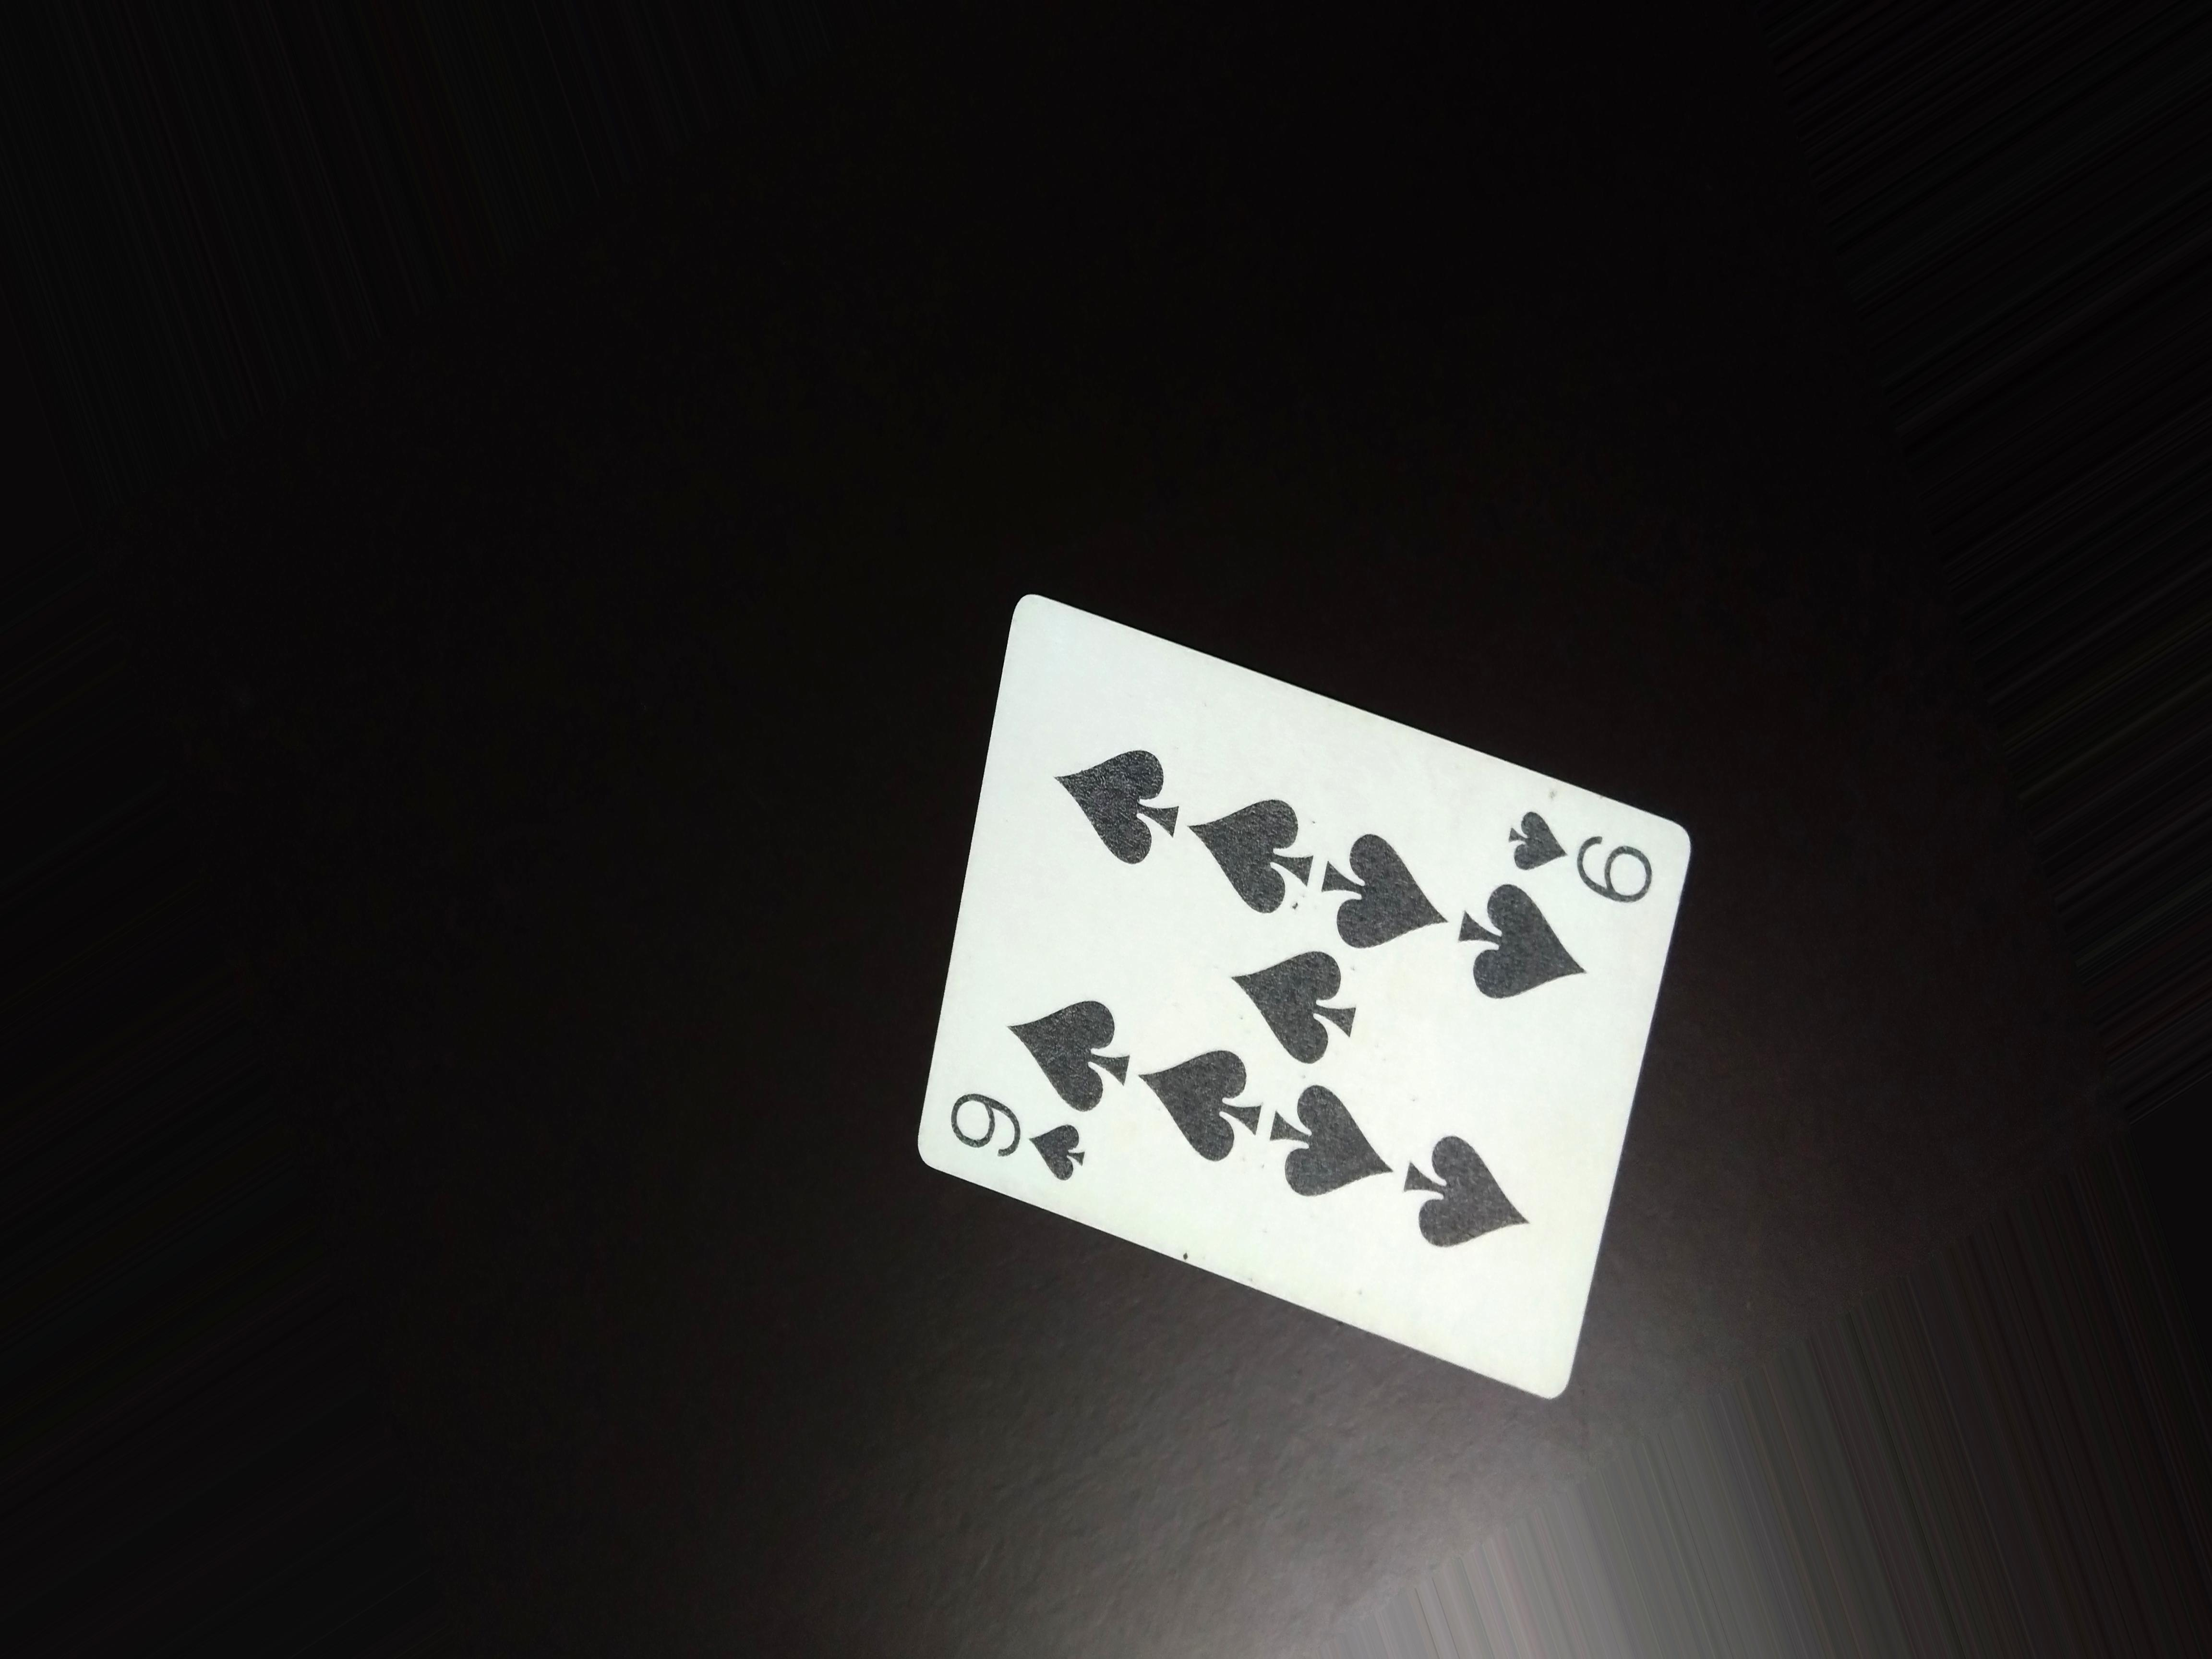9S: (1486, 795, 1667, 908)
